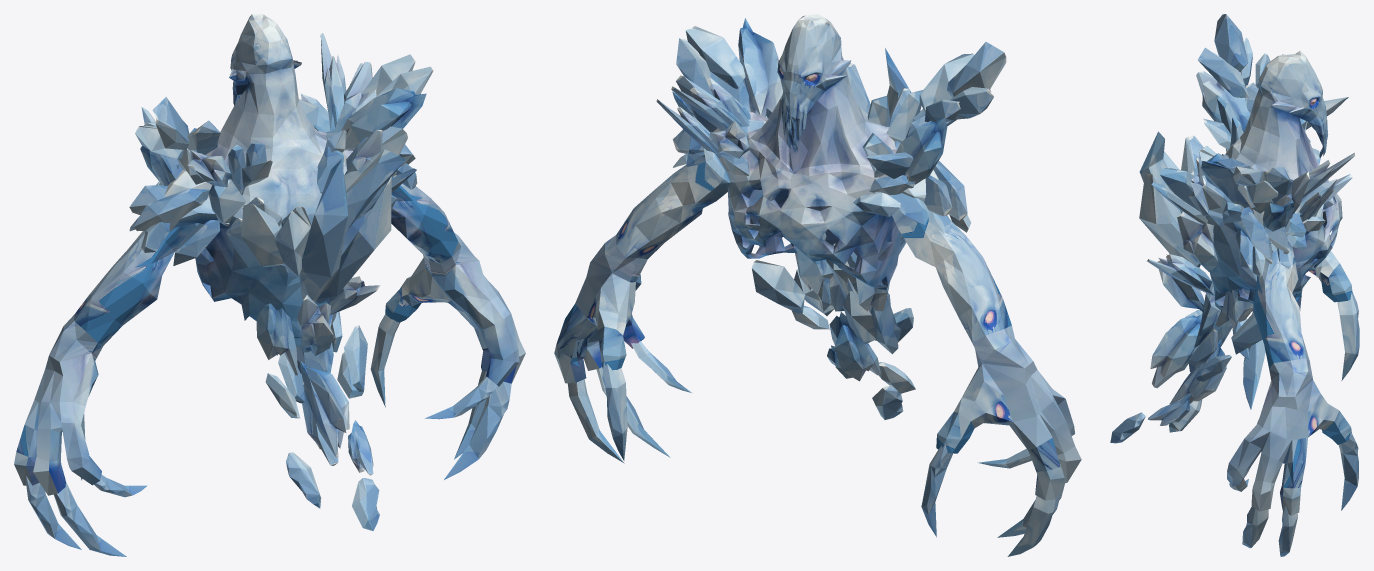
Rendered from ice ghost monster.fbx.
3 renders of one model, left to right at view 1: azimuth 30°, elevation 25°; view 2: azimuth 150°, elevation 25°; view 3: azimuth 270°, elevation 25°, orthographic. The views are drawn at different scales.
Visible parts, largest first — view 1: obj3D_Object1, obj3D_Object2; view 2: obj3D_Object1, obj3D_Object2; view 3: obj3D_Object1, obj3D_Object2.
Boxes of the visible parts, x1,y1,x2,y2 form: obj3D_Object1: [14, 14, 525, 556]; obj3D_Object2: [16, 186, 487, 457]; obj3D_Object1: [554, 14, 1081, 556]; obj3D_Object2: [556, 174, 1060, 471]; obj3D_Object1: [1110, 14, 1359, 556]; obj3D_Object2: [1253, 251, 1339, 488].
Size of the model in its own units: 16.08 by 15.07 by 8.
